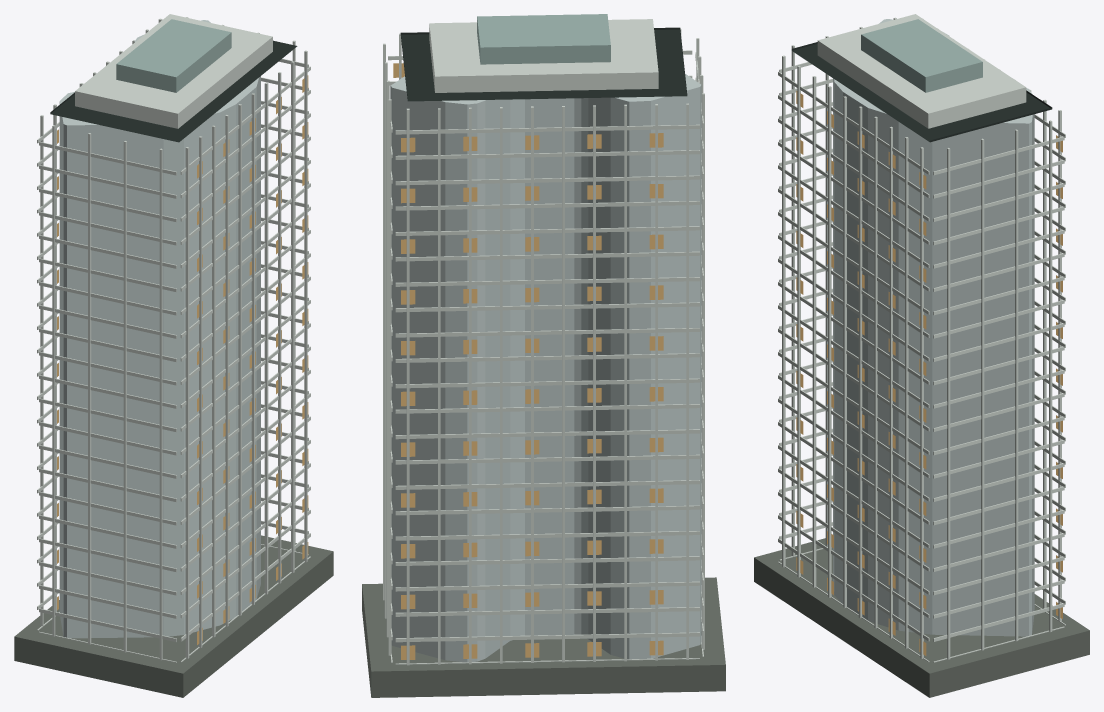
Rendered from yihua-tower.glb.
3 views of the same model, side by side, from view 1: azimuth 30°, elevation 25°; view 2: azimuth 150°, elevation 25°; view 3: azimuth 270°, elevation 25° (orthographic). The views are drawn at different scales.
Visible parts, largest first — view 1: envelope, fins, floor_bands, podium, crown_step, crown_screen, night_windows, roof_deck; view 2: envelope, floor_bands, fins, podium, night_windows, crown_step, crown_screen, roof_deck; view 3: envelope, fins, floor_bands, podium, crown_step, crown_screen, night_windows, roof_deck.
Boxes of the visible parts, box(x1,y1,x2,y2) form: envelope: box(59, 20, 260, 638); fins: box(40, 17, 307, 660); floor_bands: box(37, 58, 310, 662); podium: box(14, 535, 333, 697); crown_step: box(75, 14, 272, 128); crown_screen: box(116, 19, 231, 92); night_windows: box(57, 75, 308, 644); roof_deck: box(50, 40, 297, 142); envelope: box(390, 73, 701, 662); floor_bands: box(388, 50, 703, 664); fins: box(383, 28, 704, 665); podium: box(362, 577, 725, 697); night_windows: box(393, 63, 663, 659); crown_step: box(429, 19, 658, 92); crown_screen: box(477, 14, 610, 64); roof_deck: box(400, 27, 687, 101); envelope: box(833, 19, 1034, 636); fins: box(782, 17, 1061, 659); floor_bands: box(778, 62, 1065, 662); podium: box(754, 538, 1089, 697); crown_step: box(817, 14, 1026, 128); crown_screen: box(861, 19, 982, 92); night_windows: box(796, 90, 1062, 655); roof_deck: box(791, 42, 1052, 142).
Size of the model in its own units: 93.06 by 155 by 82.84.
